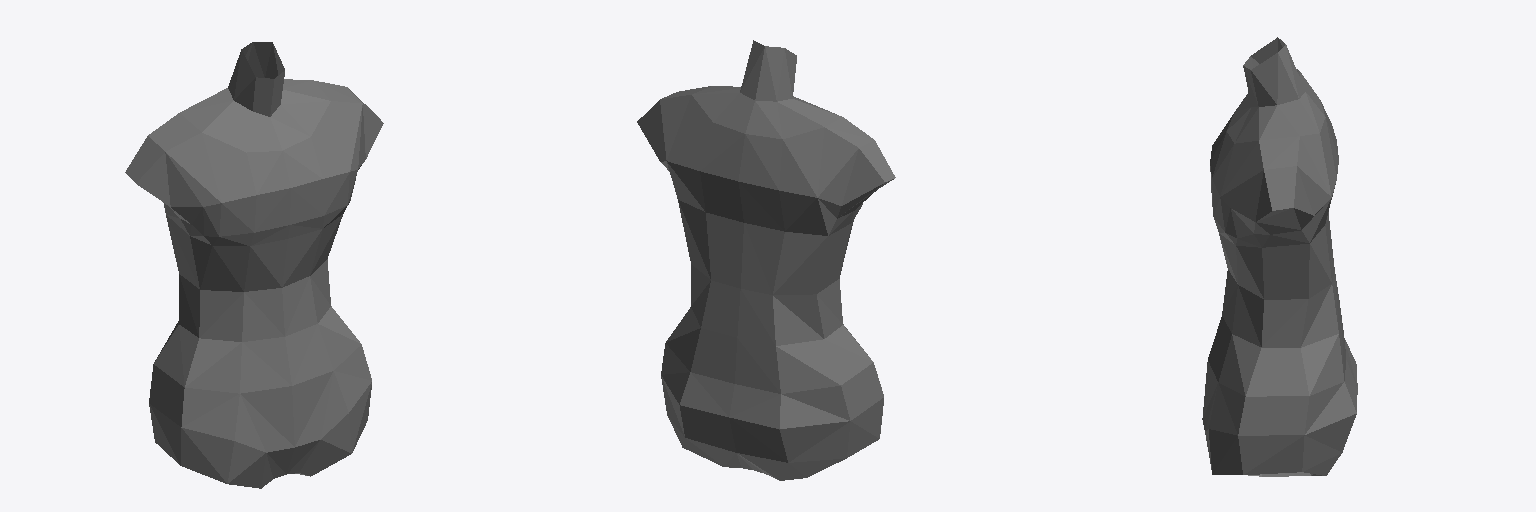
File: body.obj
3 views of the same model, side by side, from view 1: azimuth 30°, elevation 25°; view 2: azimuth 150°, elevation 25°; view 3: azimuth 270°, elevation 25° (orthographic).
Parts seen in each view (by area): view 1: body001, body; view 2: body001, body; view 3: body, body001.
Boxes of the visible parts, <box> form: body001: <box>125,42,294,488</box>; body: <box>248,42,383,476</box>; body001: <box>729,46,895,480</box>; body: <box>637,40,764,469</box>; body: <box>1202,44,1357,476</box>; body001: <box>1210,37,1357,388</box>.
Bounding box in the file's own units: 16.53 × 26.97 × 8.95.